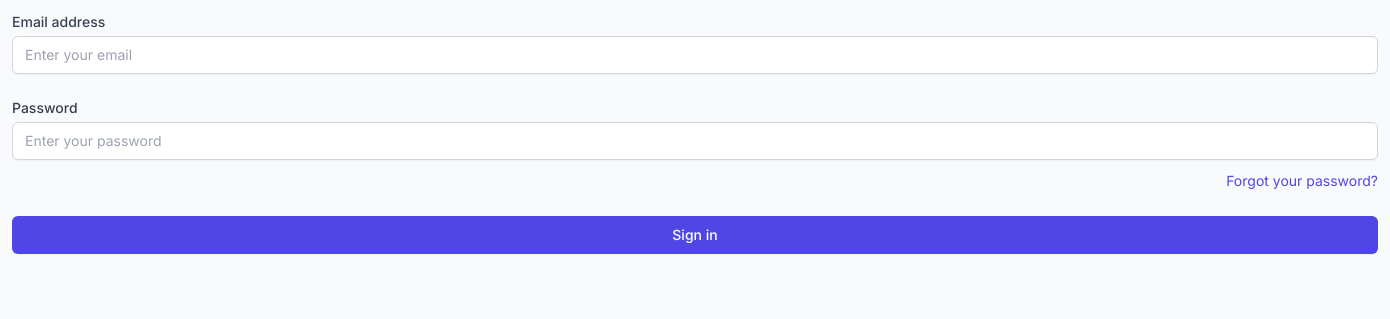
Test: LoginForm Component › should validate email format
Type "invalid-email" into the field labelled "Email address". click: (695, 55)
box: [12,36,1378,74]
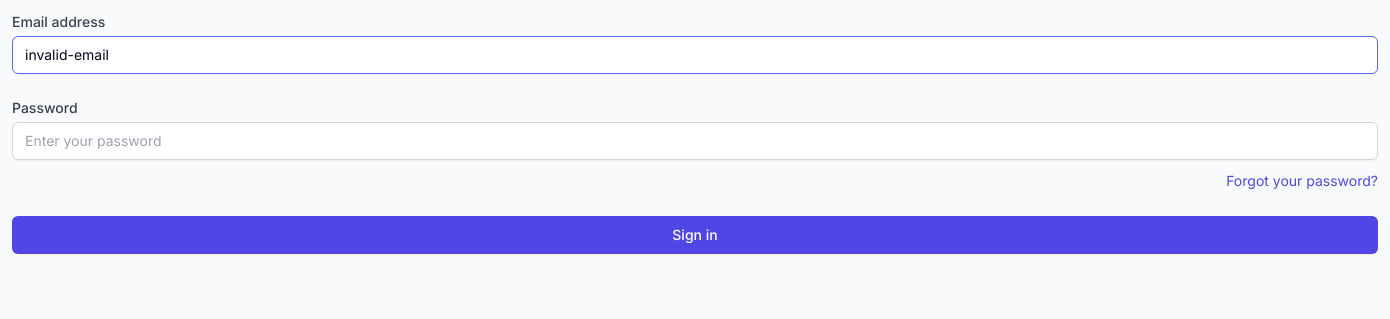
Submit the form labelled "Email address Password Forgot your password? Sign in"
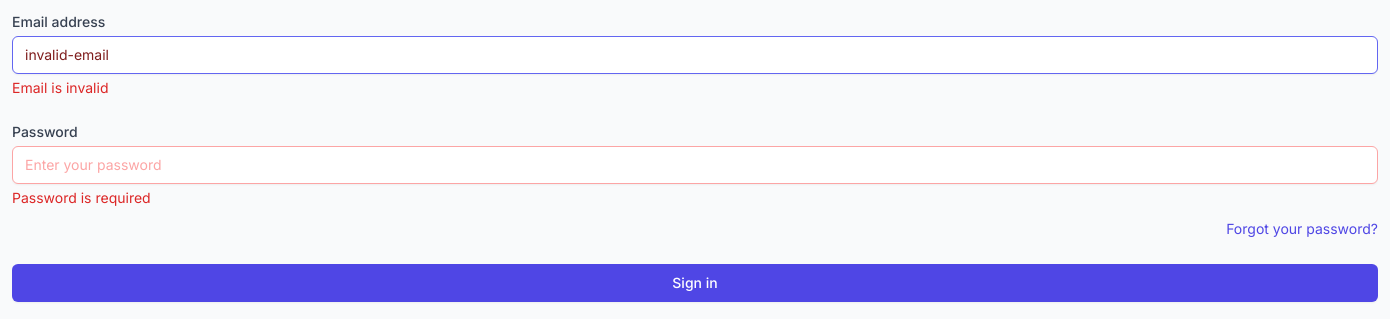
Expected: the text "Email is invalid" is shown, [12,79,108,96]
